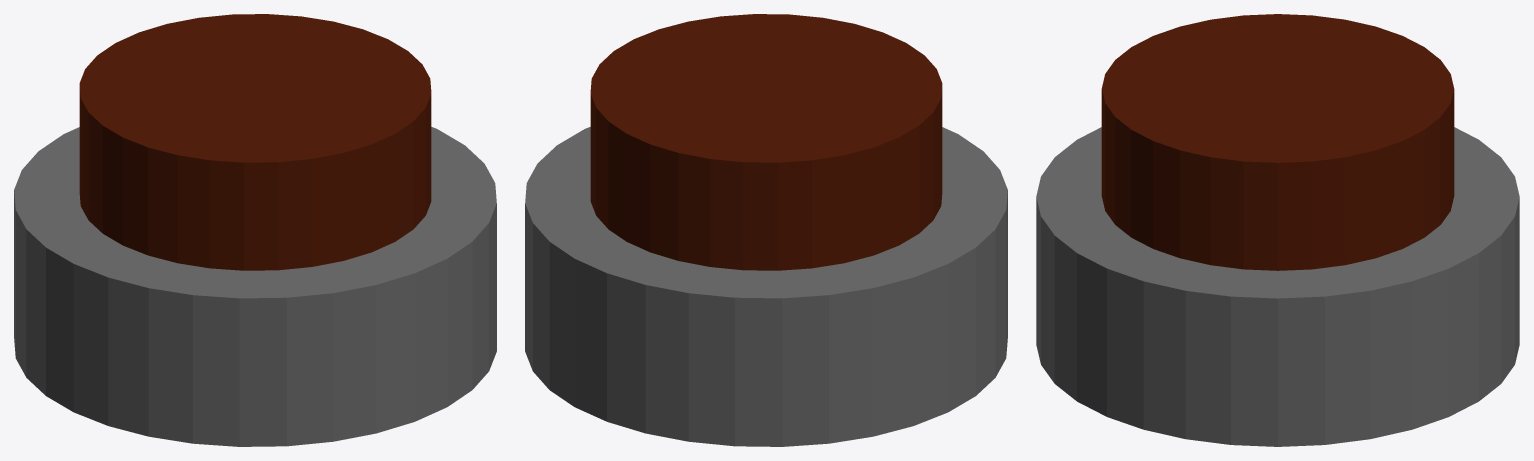
Rendered from BrownButton.glb.
The picture shows the model from 3 angles, left to right: view 1: azimuth 30°, elevation 25°; view 2: azimuth 150°, elevation 25°; view 3: azimuth 270°, elevation 25°; orthographic projection.
Parts seen in each view (by area): view 1: Base, Button; view 2: Base, Button; view 3: Base, Button.
Boxes of the visible parts, box(x1,y1,x2,y2) form: Base: box(14, 127, 496, 446); Button: box(79, 14, 431, 270); Base: box(525, 127, 1007, 446); Button: box(590, 14, 942, 270); Base: box(1036, 127, 1519, 446); Button: box(1101, 14, 1454, 270).
Size of the model in its own units: 0.9081 by 0.5316 by 0.9081.
